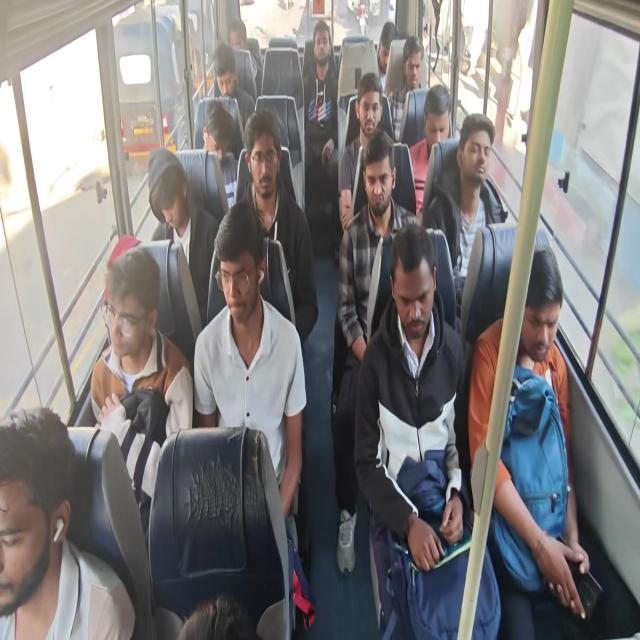person: (0, 415, 74, 610), (386, 233, 432, 337), (520, 255, 560, 371), (216, 215, 259, 322), (101, 259, 148, 354), (246, 115, 284, 204), (146, 165, 192, 226), (199, 103, 232, 177), (459, 114, 494, 182), (362, 149, 392, 216), (426, 94, 448, 157), (212, 50, 238, 102), (377, 30, 397, 79), (360, 84, 380, 131), (311, 28, 329, 70), (406, 49, 422, 92), (231, 24, 251, 58)
